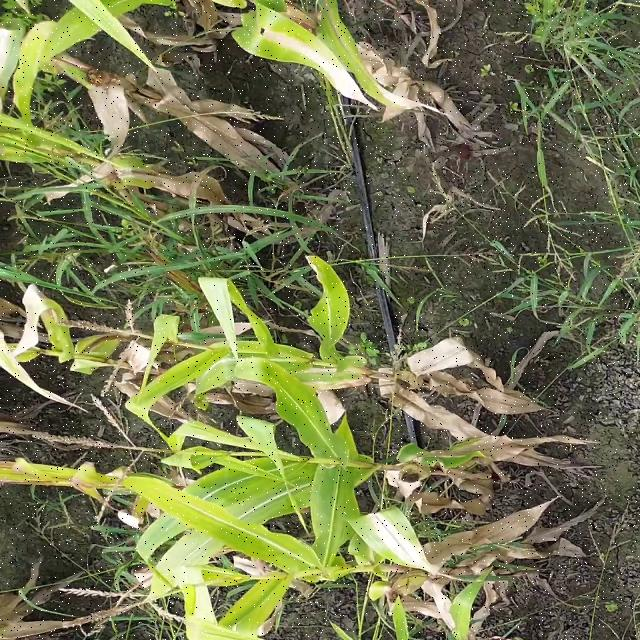northern-leaf-blight: (257, 29, 374, 101), (354, 513, 438, 575)
